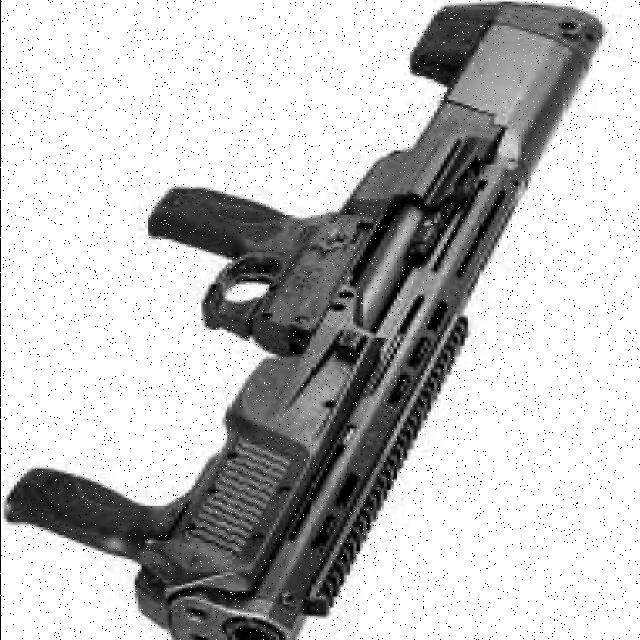Rifle: (2, 1, 607, 640)
